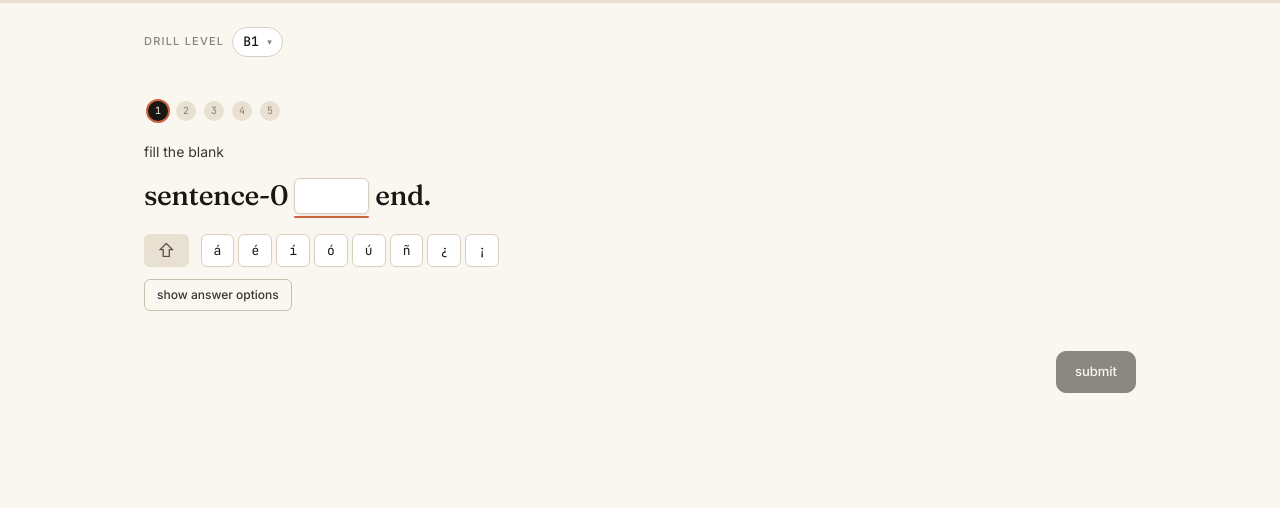
Test: PracticePage › submission error (5xx) › renders the error card with "try again" when submit fails with a generic 5xx
Type "middle" into the field at [332, 196], box [294, 178, 370, 214]
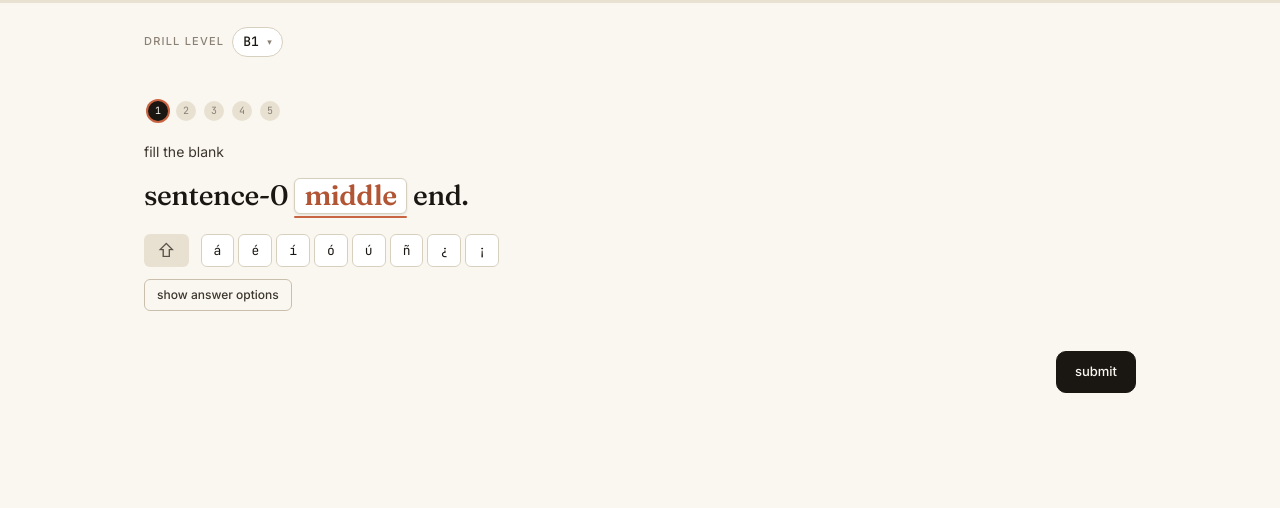
Click the button "submit" at [1096, 372], box [1056, 351, 1136, 393]
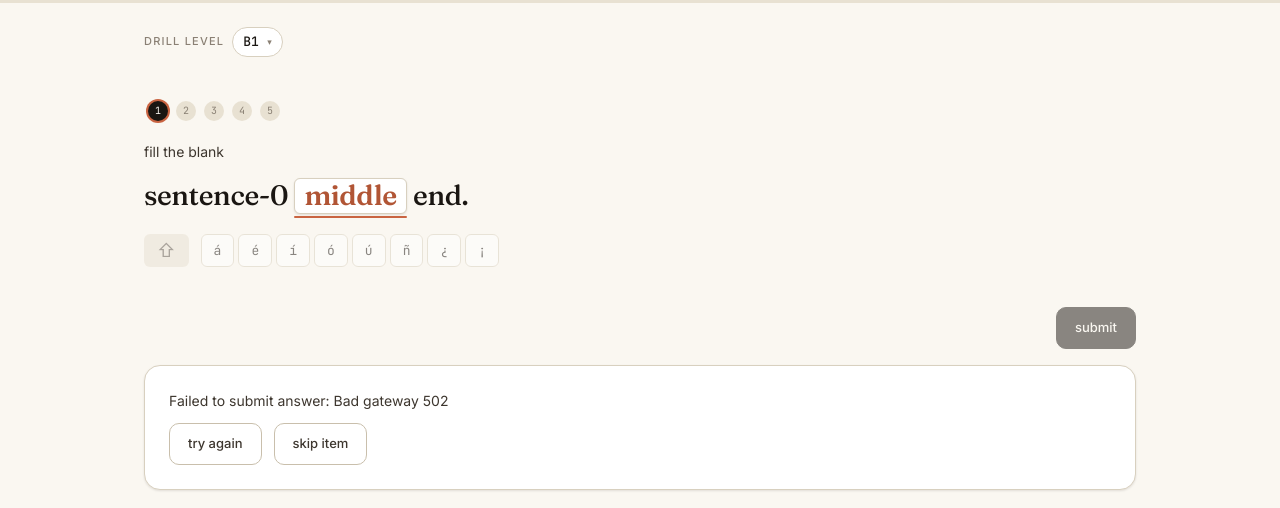
Now the text "Failed to submit answer: Bad gateway 502" is shown, box [169, 392, 448, 409]
Now the button "try again" is shown, box [169, 424, 262, 465]
